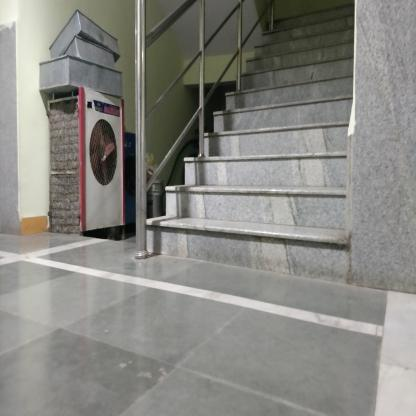stairs: (206, 124, 347, 281)
